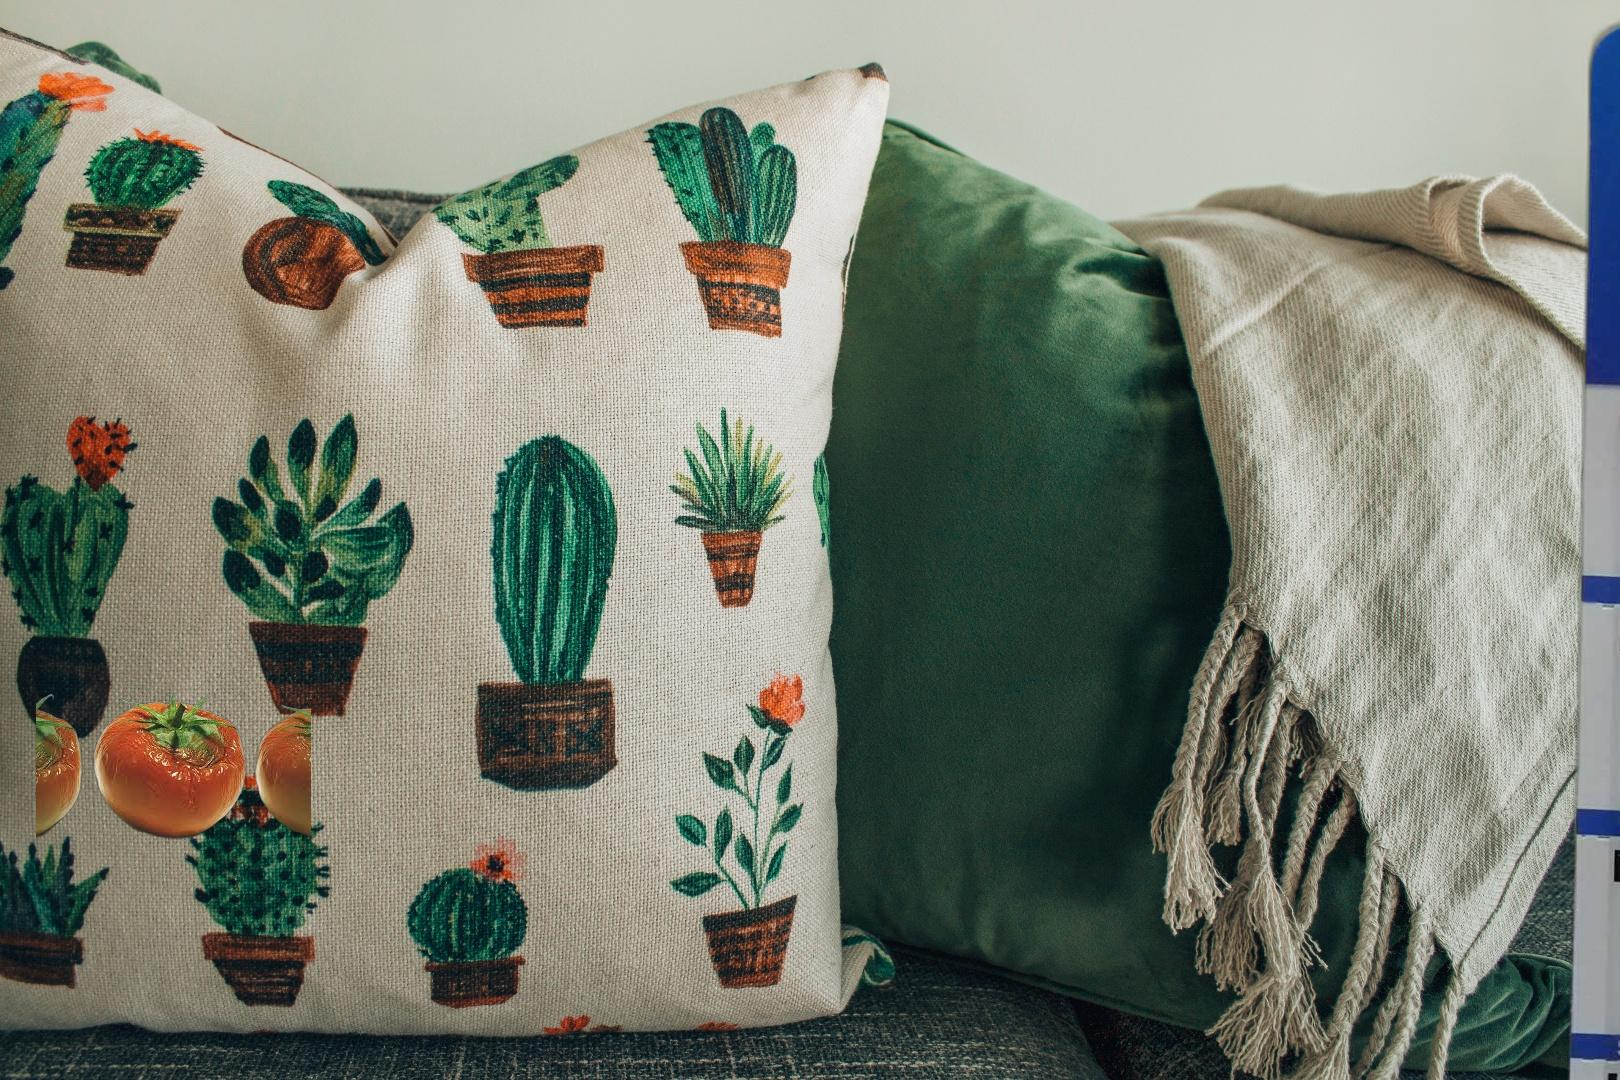battery: (1528, 2, 1620, 1080)
biological: (36, 687, 311, 843)
shoes: (1589, 215, 1620, 724)
